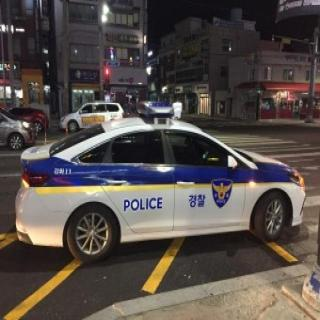Police_car: (14, 99, 308, 249)
